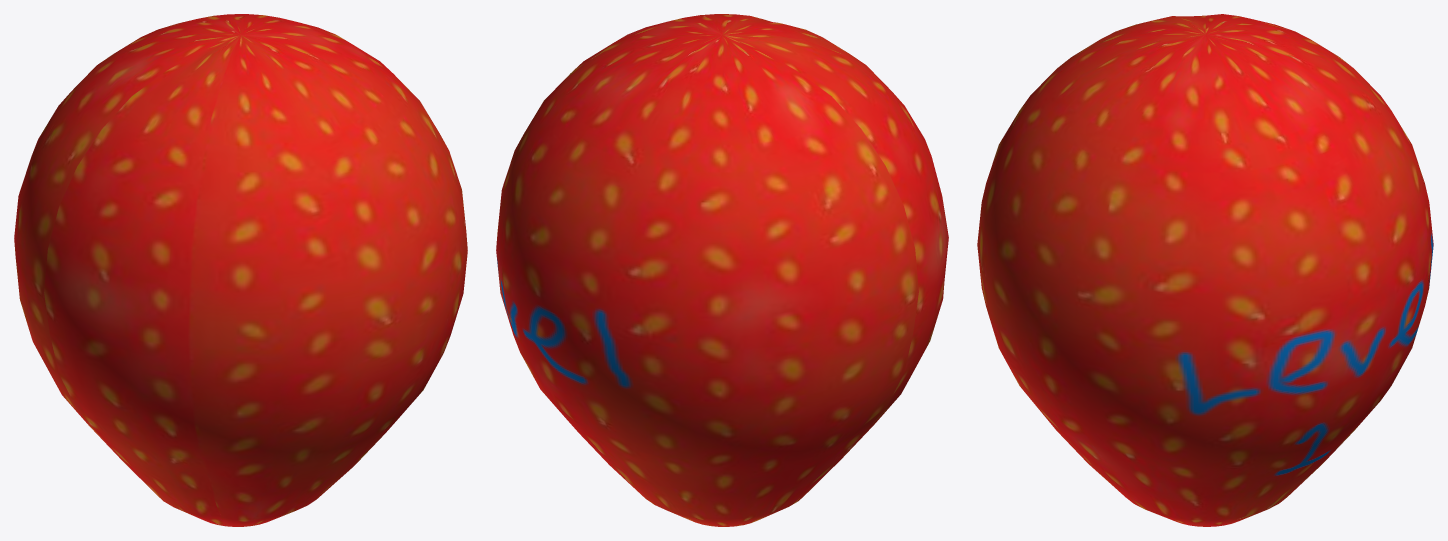
Rendered from strawb1.glb.
3 views of the same model, side by side, from view 1: azimuth 30°, elevation 25°; view 2: azimuth 150°, elevation 25°; view 3: azimuth 270°, elevation 25° (orthographic).
Visible parts, largest first — view 1: Sphere; view 2: Sphere; view 3: Sphere.
Part boxes in pixels (x1,y1,x2,y2): Sphere: (14, 14, 467, 526); Sphere: (496, 14, 948, 526); Sphere: (977, 14, 1433, 526).
Bounding box in the file's own units: 2.02 × 2.34 × 2.02.
Materials: 1 (1 with a texture image).
